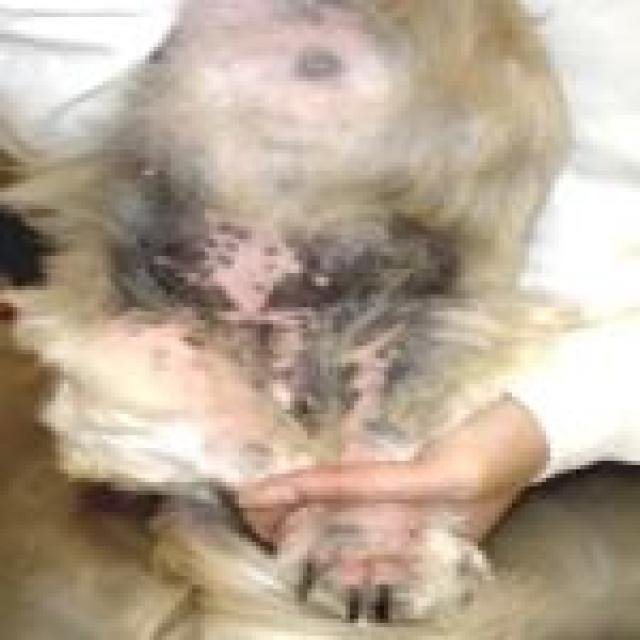fungal infection: (106, 311, 224, 406), (217, 218, 296, 312), (340, 494, 419, 584), (254, 308, 312, 407), (353, 336, 408, 414), (183, 263, 216, 293)
